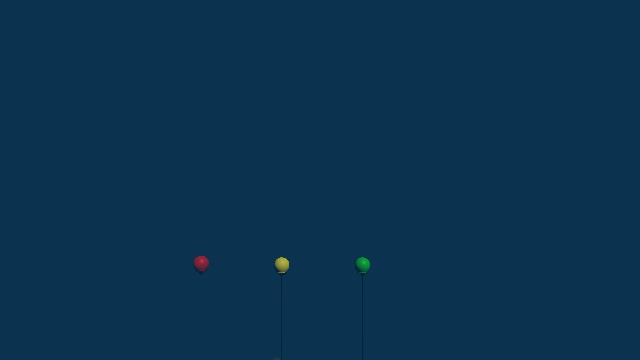buoy_green: (353, 255, 370, 278)
buoy_red: (192, 255, 209, 274)
